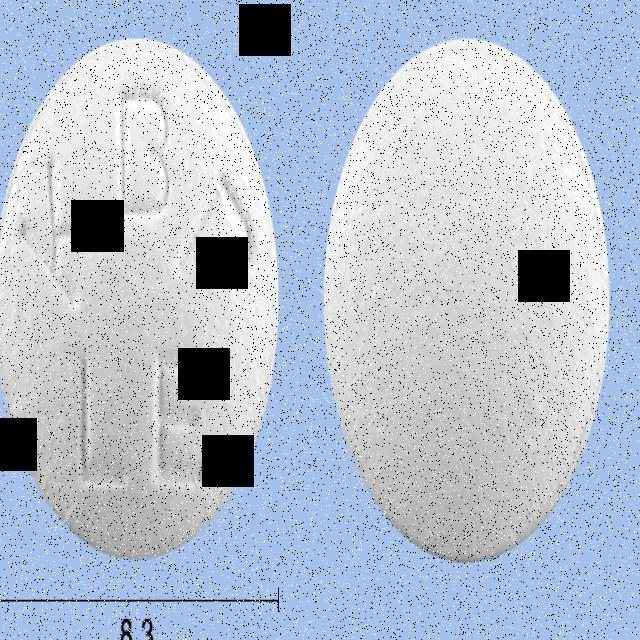Neobit Tab: (0, 35, 276, 556)
